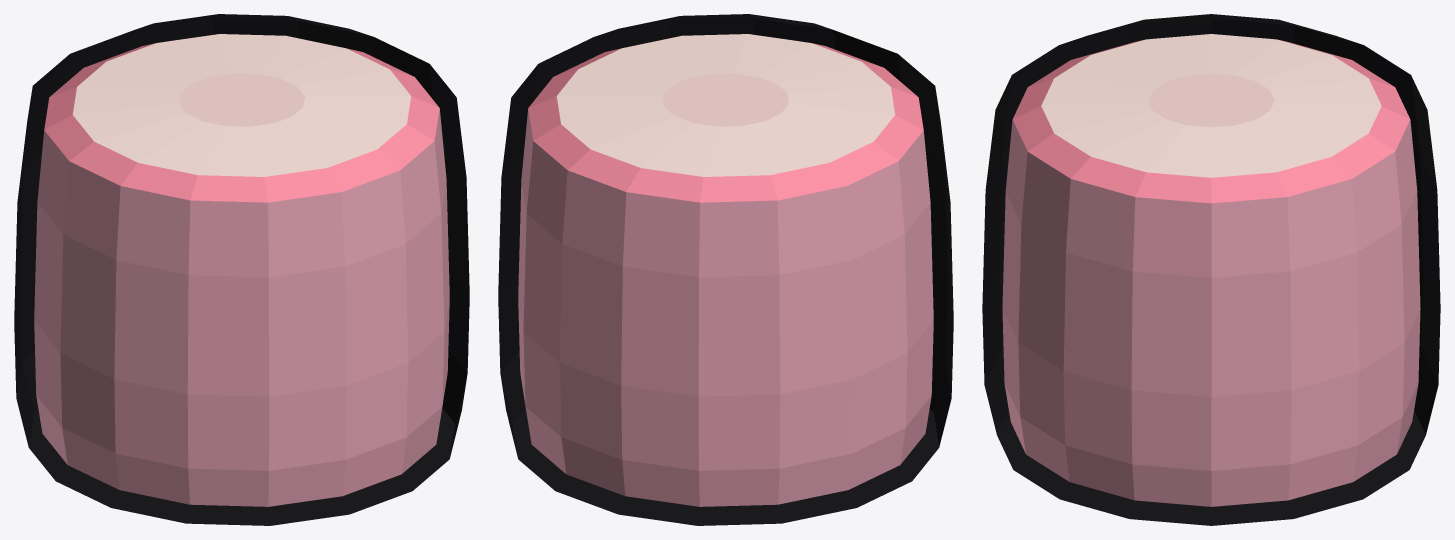
File: Nube.fbx
3 views of the same model, side by side, from view 1: azimuth 30°, elevation 25°; view 2: azimuth 150°, elevation 25°; view 3: azimuth 270°, elevation 25° (orthographic).
Parts seen in each view (by area): view 1: Cylinder.002; view 2: Cylinder.002; view 3: Cylinder.002.
Part boxes in pixels (left/top/right/bottom): Cylinder.002: left=14, top=14, right=469, bottom=525; Cylinder.002: left=498, top=14, right=953, bottom=525; Cylinder.002: left=982, top=14, right=1440, bottom=525.
Bounding box in the file's own units: 3.07 × 2.61 × 3.07.
